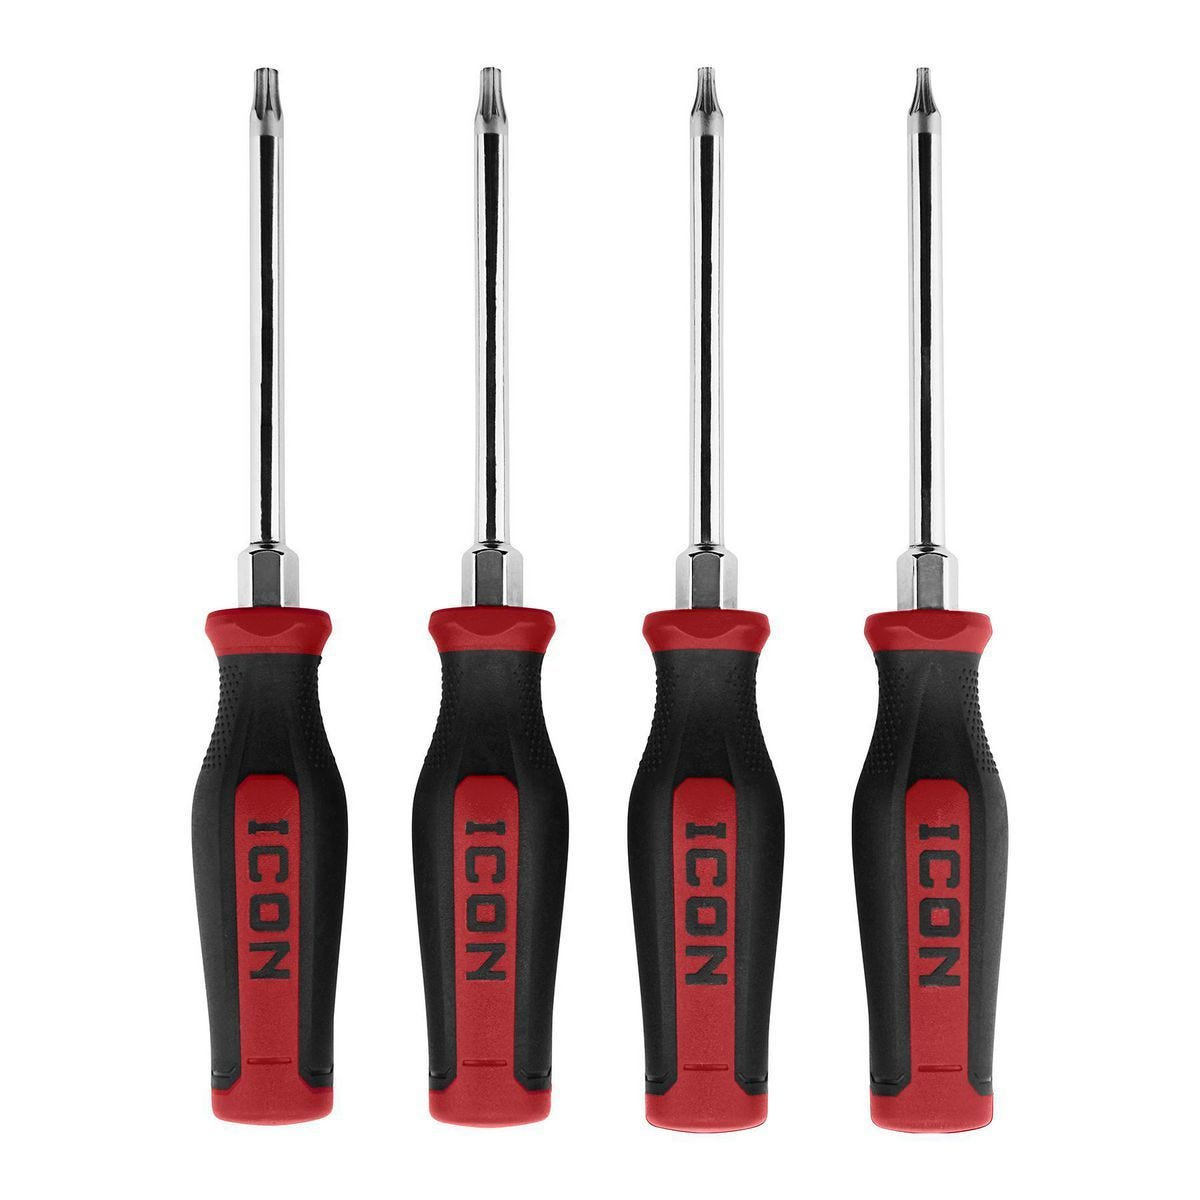screwdriver: (407, 63, 573, 1127), (625, 64, 789, 1135), (187, 69, 352, 1126), (852, 60, 1011, 1138)
